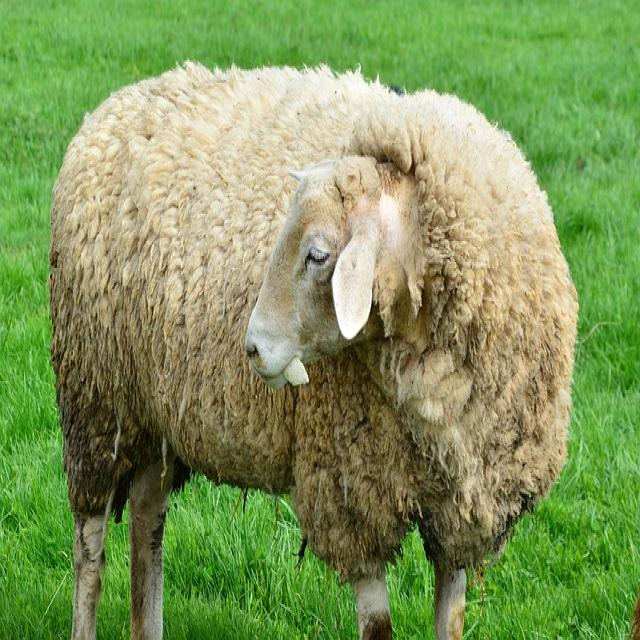sheep: (46, 57, 578, 639)
